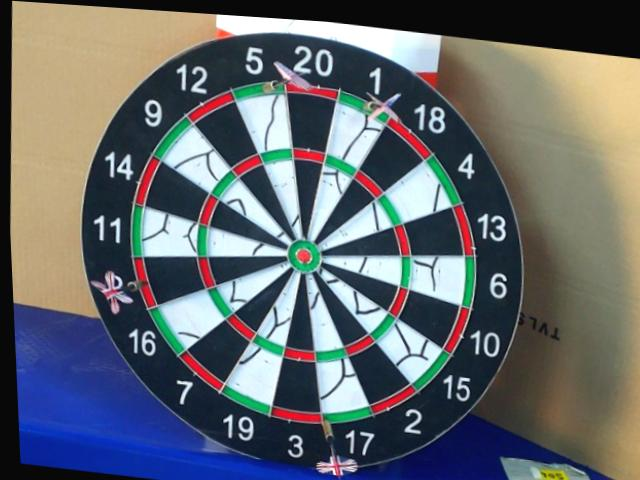double_1: (341, 93, 393, 115)
double_17: (325, 390, 371, 423)
double_5: (246, 82, 282, 93)
double_8: (134, 260, 159, 308)
